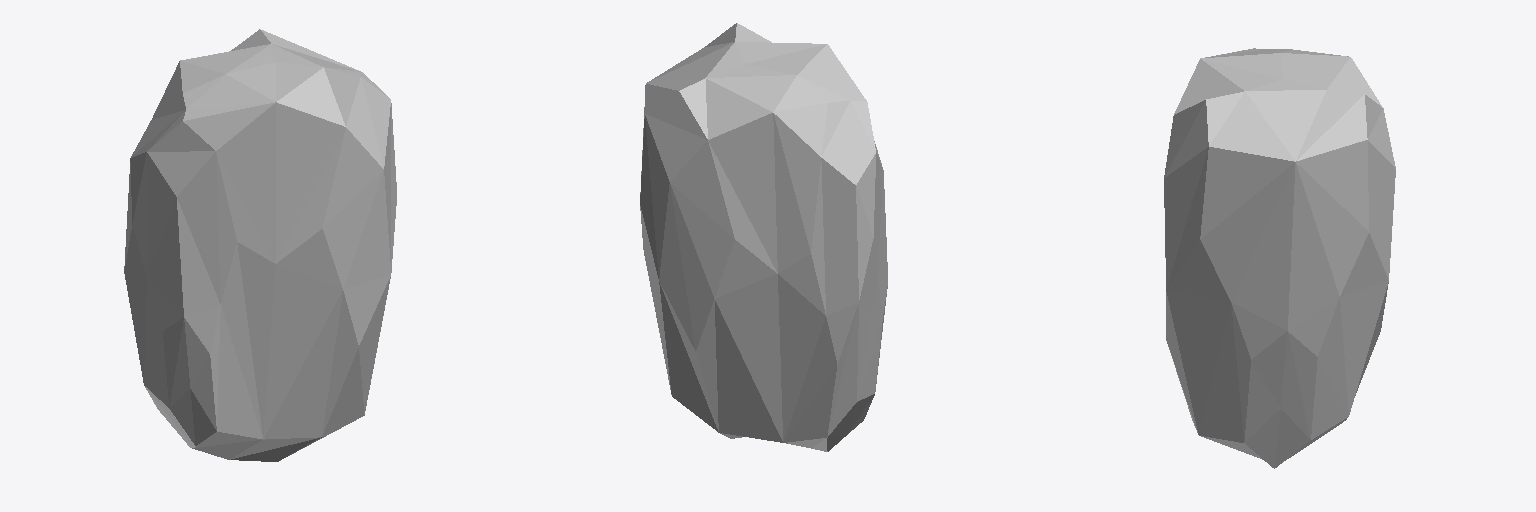
Rendered from p_larm.obj.
The picture shows the model from 3 angles: view 1: azimuth 30°, elevation 25°; view 2: azimuth 150°, elevation 25°; view 3: azimuth 270°, elevation 25°; orthographic projection.
Parts seen in each view (by area): view 1: ct_gign.ct_gign_reference.smd.mesh_2.006_ct_gign.ct_gign_referen; view 2: ct_gign.ct_gign_reference.smd.mesh_2.006_ct_gign.ct_gign_referen; view 3: ct_gign.ct_gign_reference.smd.mesh_2.006_ct_gign.ct_gign_referen.
Boxes of the visible parts, x1,y1,x2,y2 form: ct_gign.ct_gign_reference.smd.mesh_2.006_ct_gign.ct_gign_referen: [124, 29, 396, 461]; ct_gign.ct_gign_reference.smd.mesh_2.006_ct_gign.ct_gign_referen: [640, 23, 887, 451]; ct_gign.ct_gign_reference.smd.mesh_2.006_ct_gign.ct_gign_referen: [1164, 48, 1395, 468].
Size of the model in its own units: 6.88 by 10.88 by 6.03.